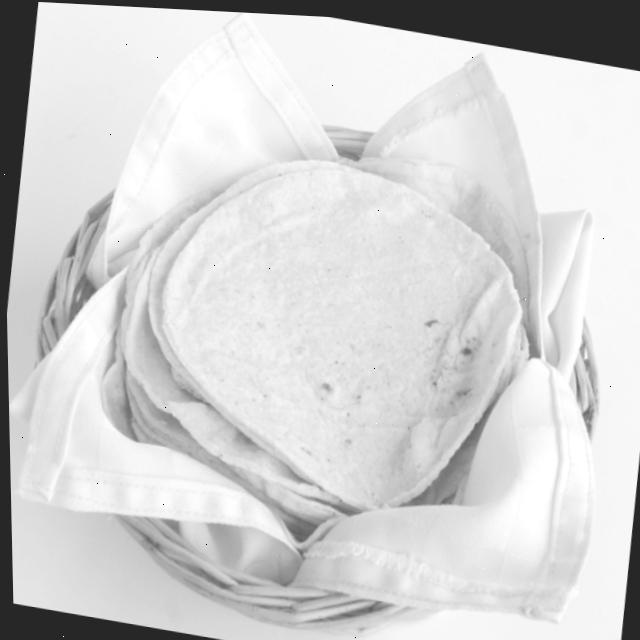面包点心: (36, 47, 610, 616)
